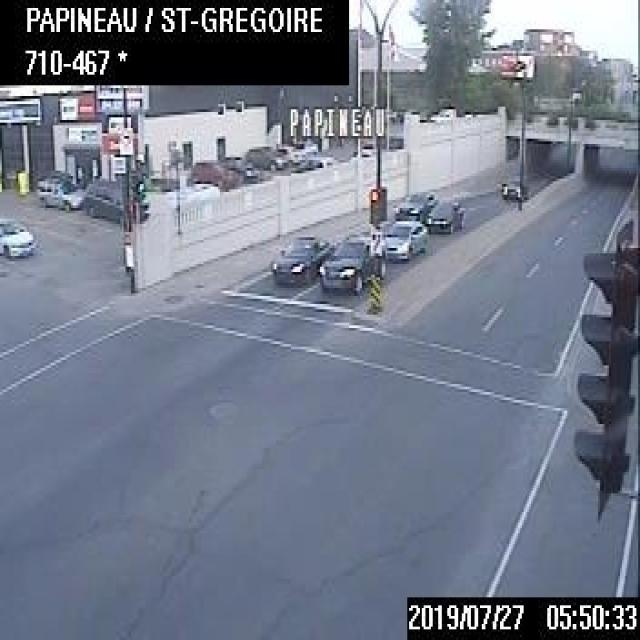vehicle: (316, 228, 386, 290), (269, 228, 336, 289), (380, 216, 425, 262), (33, 173, 84, 209), (187, 156, 240, 190), (81, 178, 120, 222), (424, 193, 464, 234), (0, 216, 36, 258), (392, 187, 433, 219), (241, 142, 283, 170), (269, 140, 303, 166), (500, 174, 525, 198)
